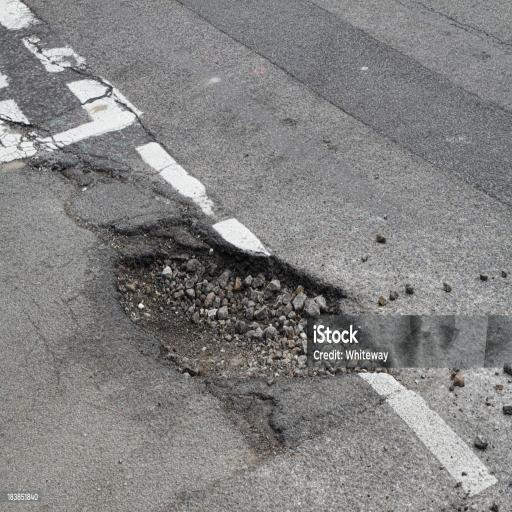hole: (87, 184, 412, 472)
